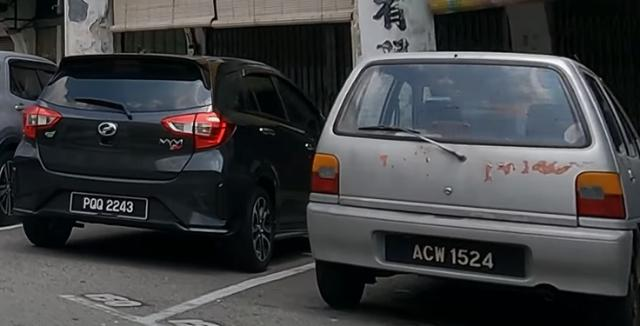License_Plate: (394, 234, 508, 274), (69, 191, 149, 222)
car: (307, 51, 640, 325), (10, 52, 326, 273)
